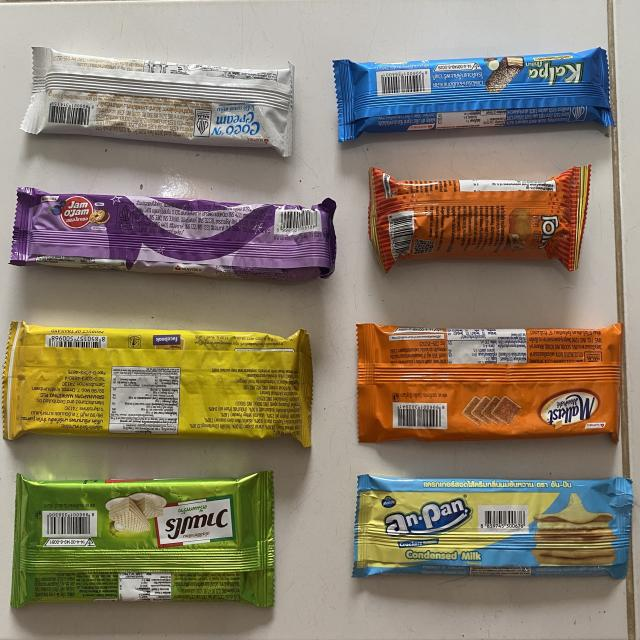plastik: (2, 322, 312, 447), (11, 472, 274, 608), (357, 324, 623, 443), (20, 46, 294, 157), (10, 188, 337, 281), (353, 474, 633, 579), (334, 48, 614, 141), (369, 166, 591, 272)
